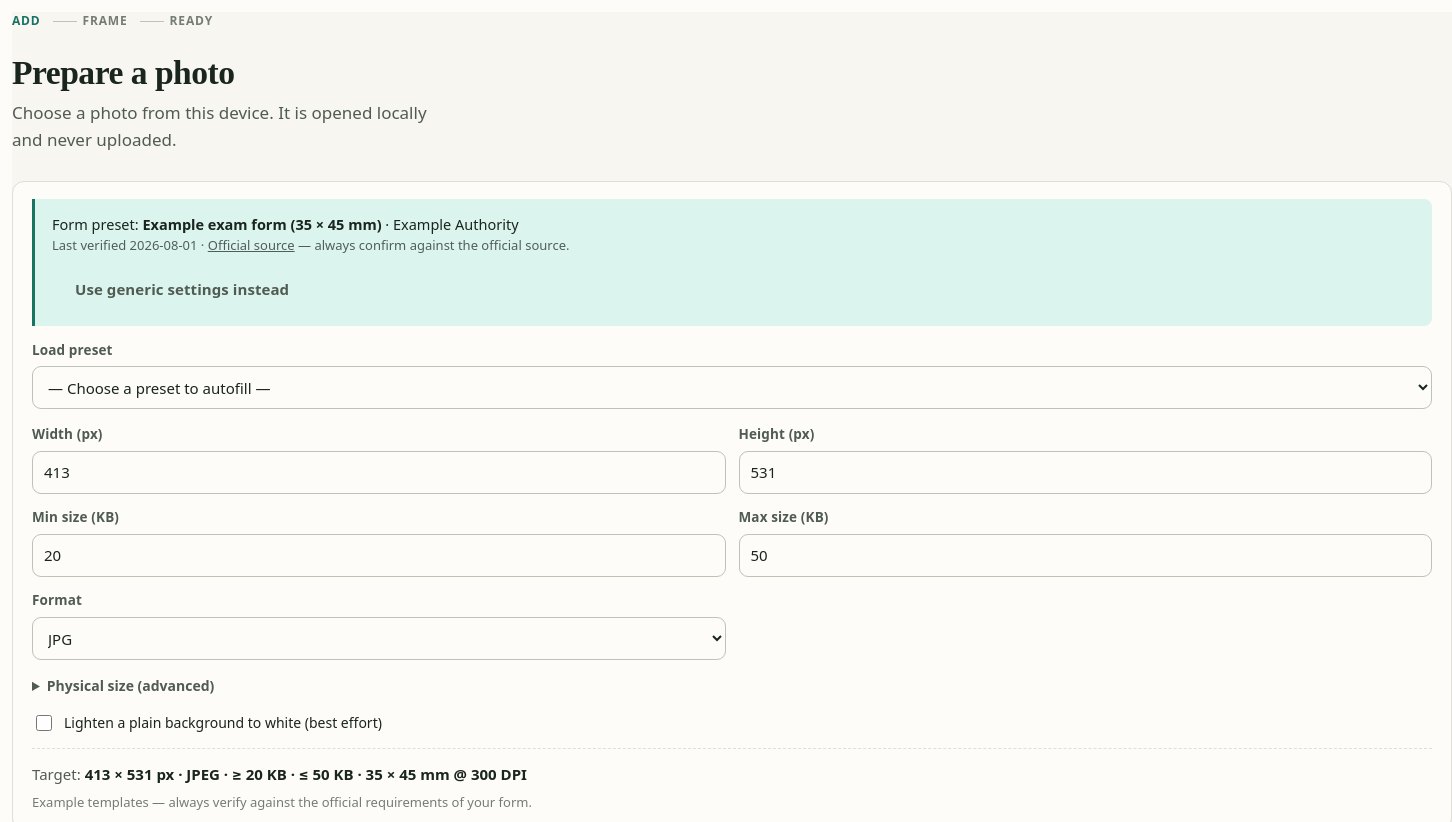
Test: PhotoView with form presets › applies manual edits while a form preset is active
This screenshot has width=1452, height=822.
Replace the text in the number field labelled "Width (px)" with "350" at [379, 473], box [32,451,726,494]
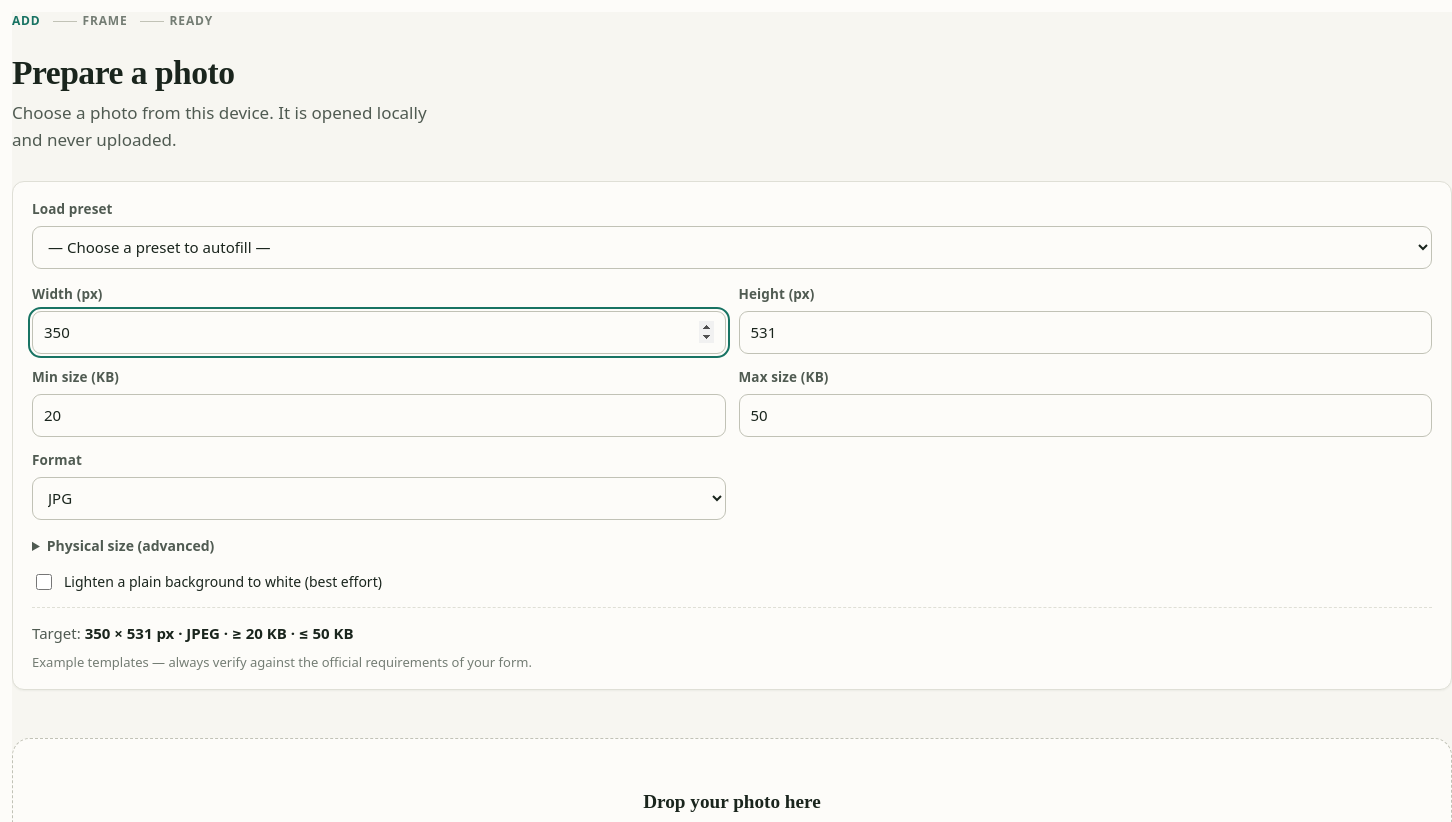
Check: the text "Target: 350 × 531 px · JPEG · ≥ 20 KB · ≤ 50 KB" is shown, box [32,607,1432,646]
